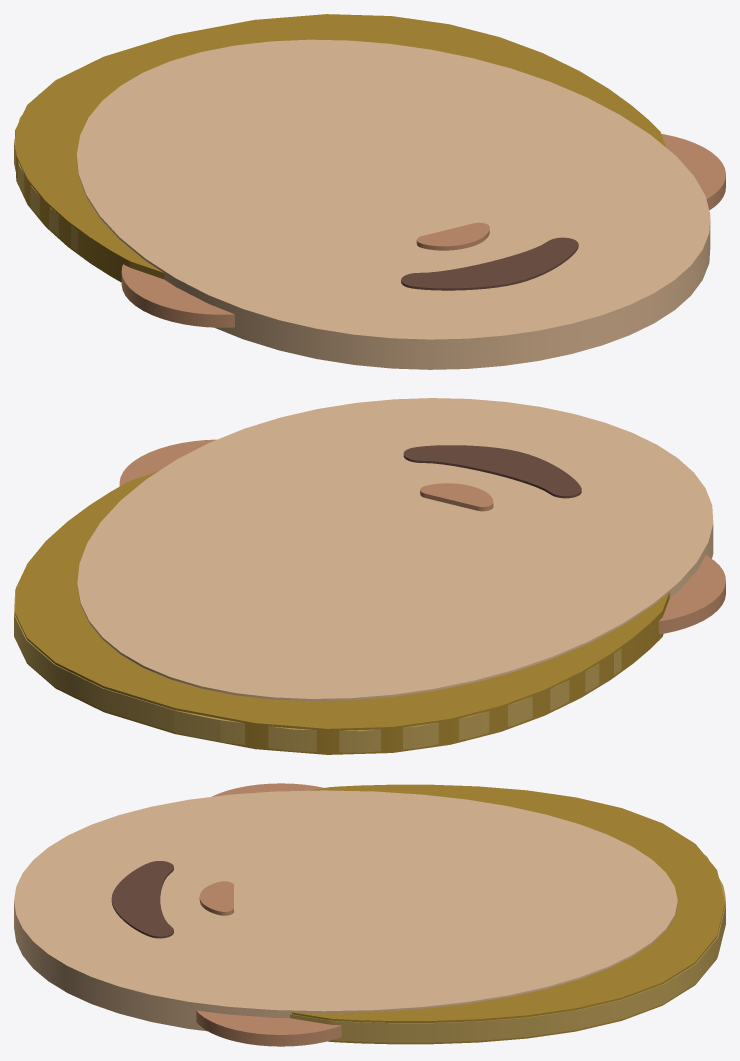
Rendered from emoji_u1f468_1f3fc.glb.
3 views of the same model, one above another, from view 1: azimuth 30°, elevation 25°; view 2: azimuth 150°, elevation 25°; view 3: azimuth 270°, elevation 25° (orthographic). The views are drawn at different scales.
Parts seen in each view (by area): view 1: emoji_u1f468_1f3fc; view 2: emoji_u1f468_1f3fc; view 3: emoji_u1f468_1f3fc.
Part boxes in pixels (box(x1,y1,x2,y2)): emoji_u1f468_1f3fc: box(14, 14, 725, 369); emoji_u1f468_1f3fc: box(14, 398, 725, 754); emoji_u1f468_1f3fc: box(14, 783, 725, 1046).
Bounding box in the file's own units: 0.0279 × 0.0018 × 0.0333.
